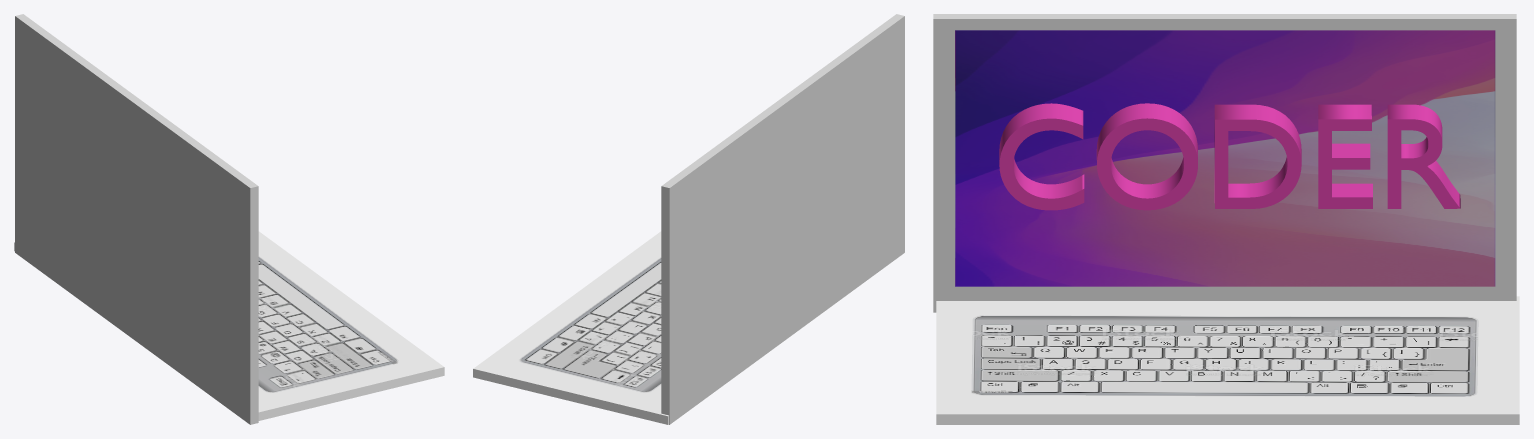
File: computer.glb
The picture shows the model from 3 angles, left to right: view 1: azimuth 30°, elevation 25°; view 2: azimuth 150°, elevation 25°; view 3: azimuth 270°, elevation 25°; orthographic projection. The views are drawn at different scales.
Parts seen in each view (by area): view 1: Cube, Plane.001, Cube.001; view 2: Cube, Plane.001, Cube.001; view 3: Plane, Plane.001, Cube.001, Cube, Text.
Boxes of the visible parts, x1,y1,x2,y2 form: Cube: [15, 14, 258, 424]; Plane.001: [258, 256, 401, 394]; Cube.001: [14, 231, 444, 420]; Cube: [661, 14, 904, 424]; Plane.001: [516, 257, 661, 393]; Cube.001: [473, 231, 668, 424]; Plane: [955, 30, 1495, 286]; Plane.001: [971, 315, 1478, 396]; Cube.001: [936, 296, 1519, 424]; Cube: [933, 14, 1516, 312]; Text: [999, 103, 1460, 210].
Bounding box in the file's own units: 1.48 × 1.71 × 3.1.
4 materials, 2 textured.
